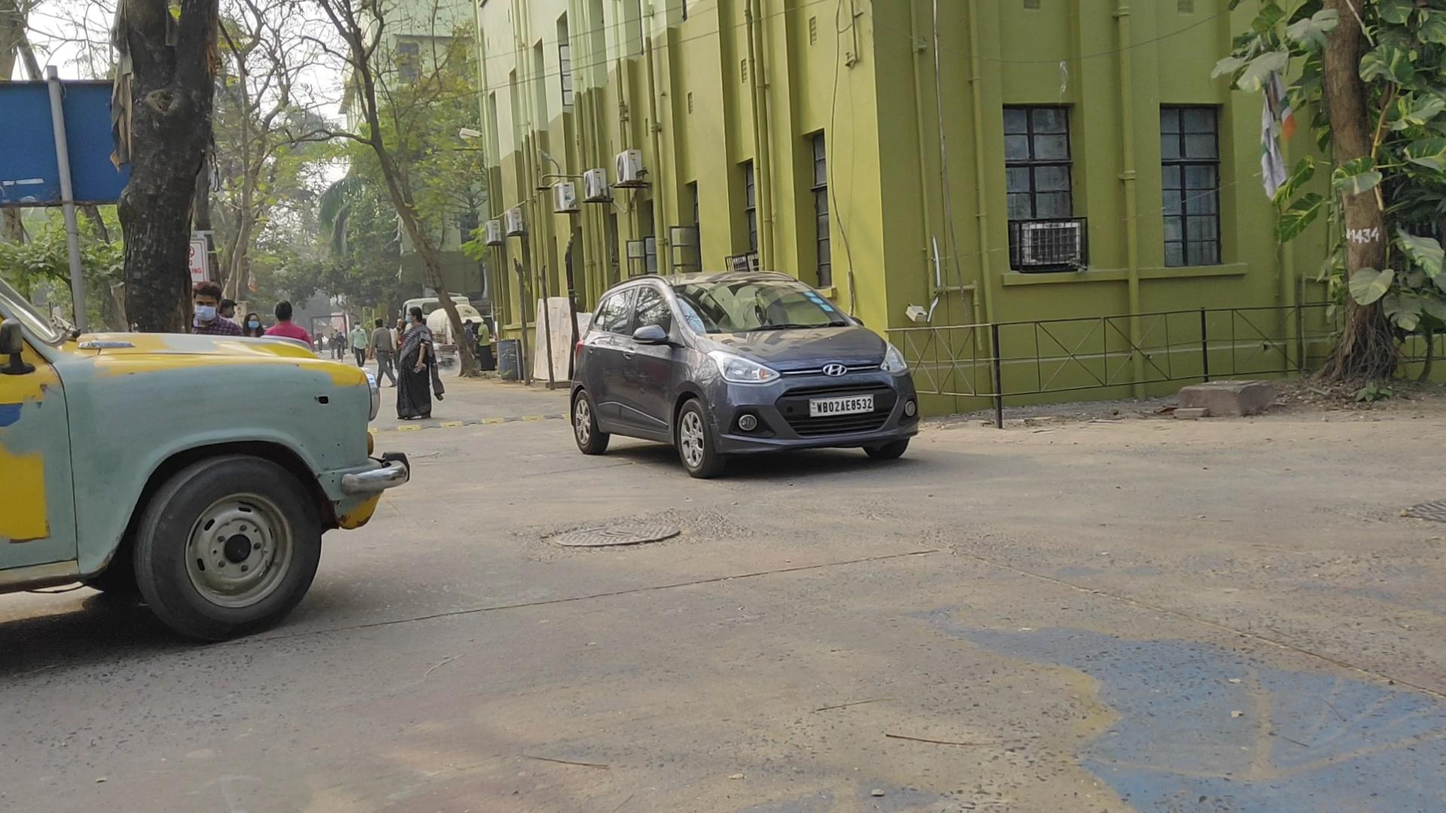car: (1, 268, 412, 642), (568, 269, 920, 480)
